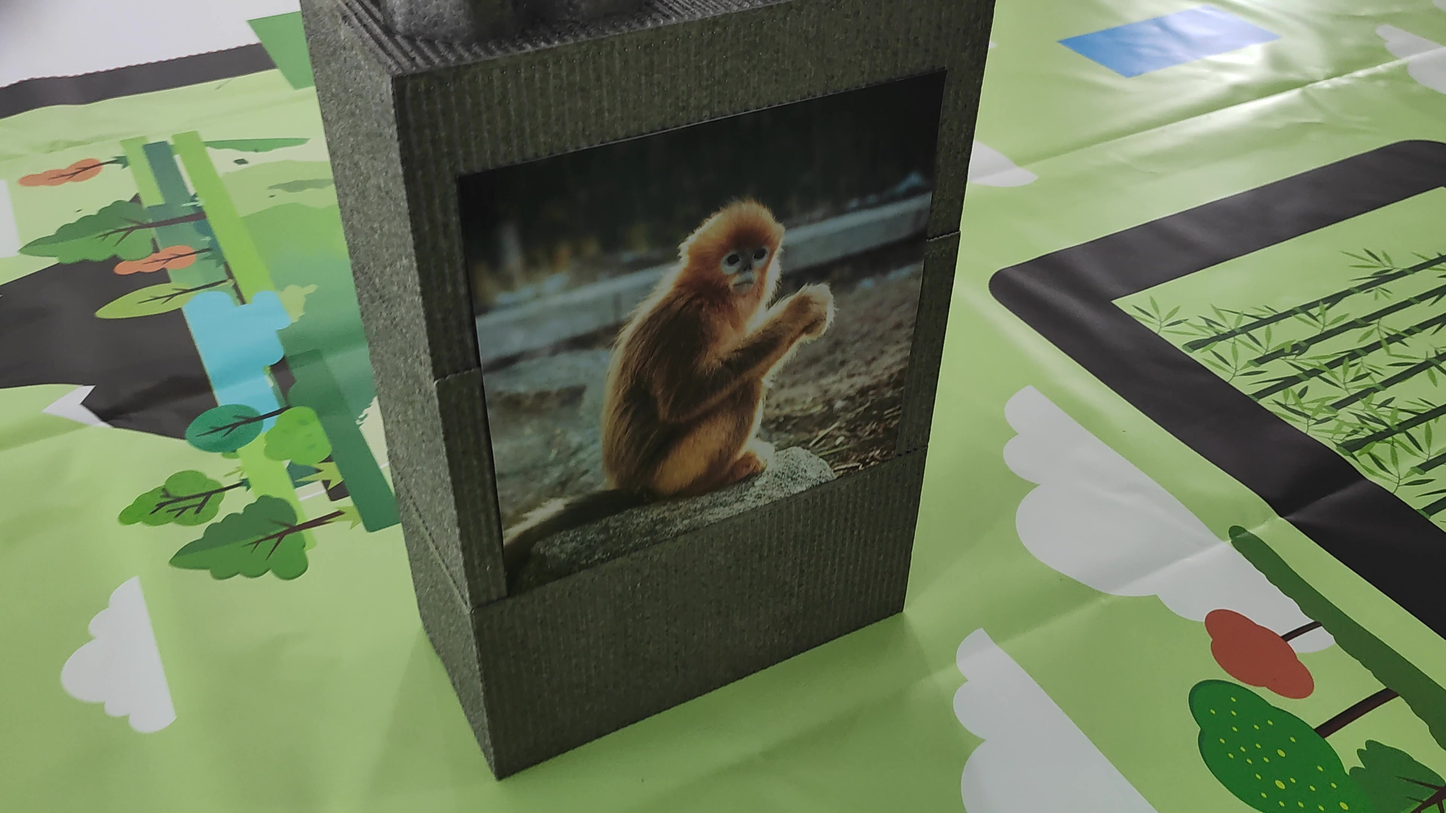monkey: (481, 188, 846, 572)
